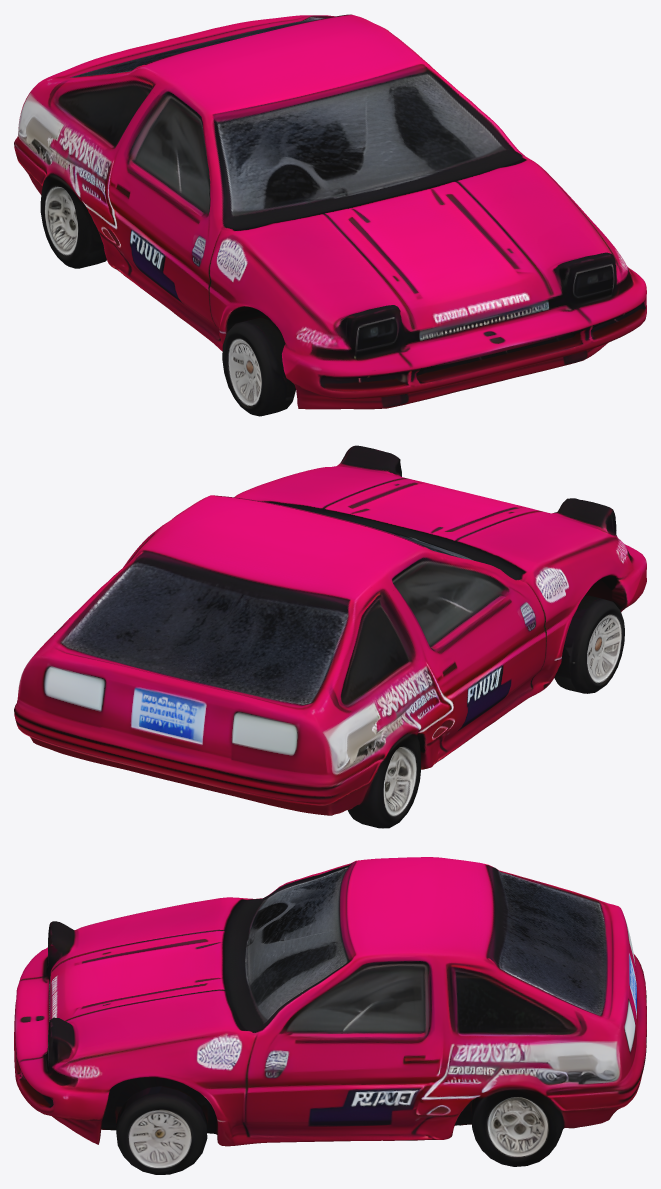
The model's file is HorseR.glb.
3 renders of one model, top to bottom at view 1: azimuth 30°, elevation 25°; view 2: azimuth 150°, elevation 25°; view 3: azimuth 270°, elevation 25°, orthographic. The views are drawn at different scales.
Visible parts, largest first — view 1: model; view 2: model; view 3: model.
Boxes of the visible parts, x1=… form: model: x1=14, y1=14, x2=646, y2=416; model: x1=14, y1=445, x2=646, y2=828; model: x1=14, y1=857, x2=646, y2=1174.
Bounding box in the file's own units: 0.2316 × 0.1297 × 0.3815.
1 material, 1 textured.
